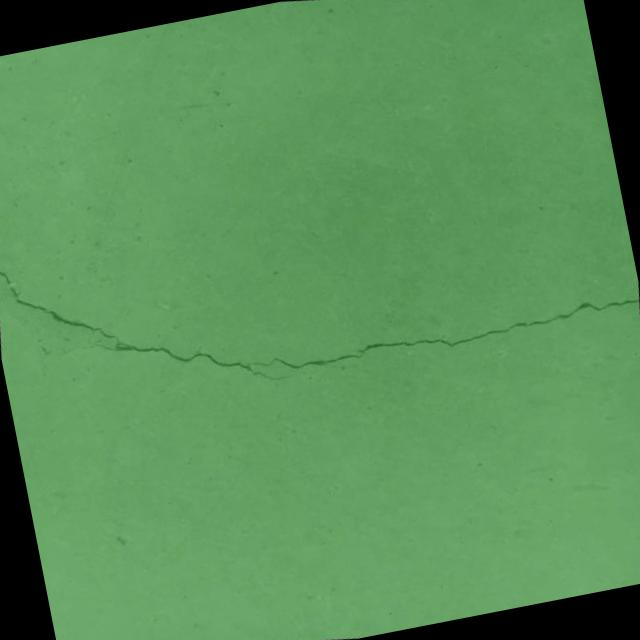crack: (0, 150, 640, 489), (62, 332, 93, 350)
